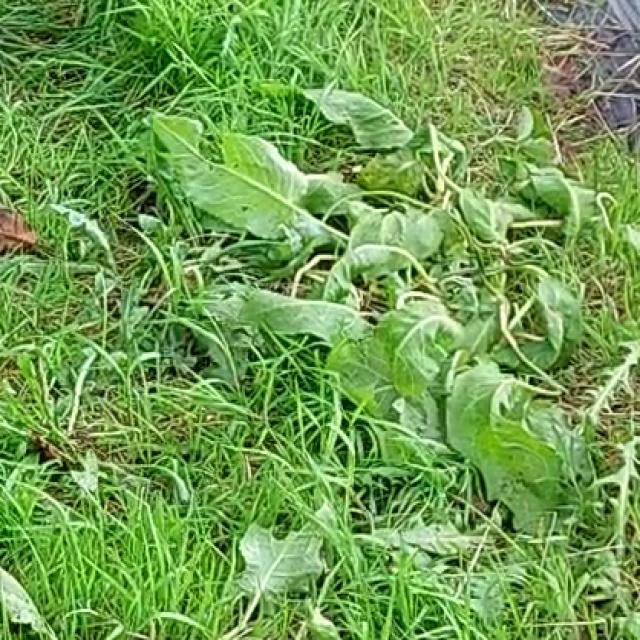organic waste: (188, 90, 632, 479)
